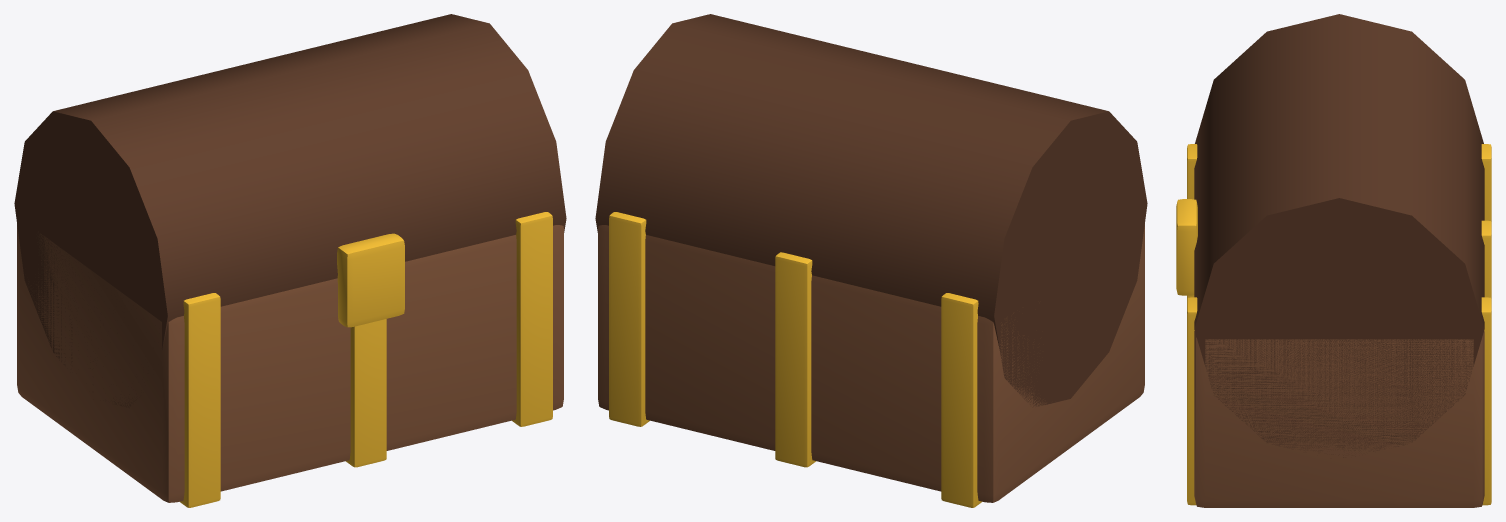
The model's file is chest.glb.
3 renders of one model, left to right at view 1: azimuth 30°, elevation 25°; view 2: azimuth 150°, elevation 25°; view 3: azimuth 270°, elevation 25°, orthographic. The views are drawn at different scales.
Parts seen in each view (by area): view 1: chest; view 2: chest; view 3: chest.
Part boxes in pixels (<box>): chest: <box>14,14,566,507</box>; chest: <box>595,14,1147,507</box>; chest: <box>1176,14,1491,507</box>.
Bounding box in the file's own units: 1.2 × 0.96 × 0.87.
